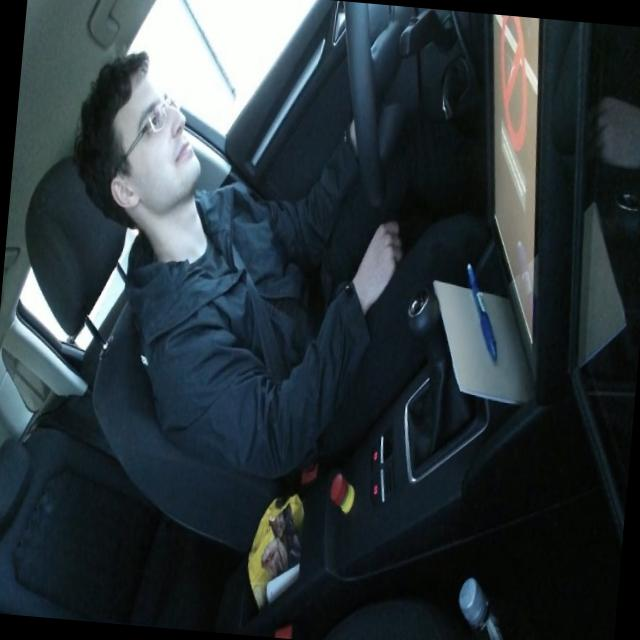pen: (457, 259, 505, 362)
